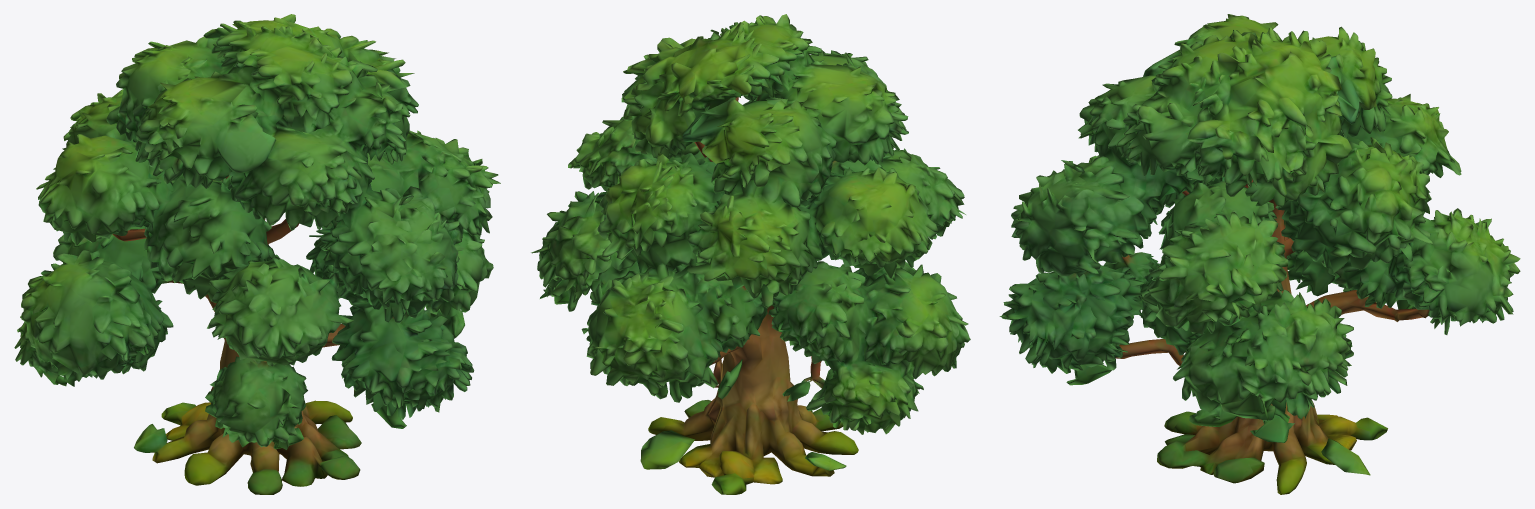
The model's file is prop_tree_a.glb.
3 views of the same model, side by side, from view 1: azimuth 30°, elevation 25°; view 2: azimuth 150°, elevation 25°; view 3: azimuth 270°, elevation 25° (orthographic). The views are drawn at different scales.
Visible parts, largest first — view 1: tripo_node_9dce3909-a59d-47c7-8edc-71247e0c5298; view 2: tripo_node_9dce3909-a59d-47c7-8edc-71247e0c5298; view 3: tripo_node_9dce3909-a59d-47c7-8edc-71247e0c5298.
Boxes of the visible parts, <box> form: tripo_node_9dce3909-a59d-47c7-8edc-71247e0c5298: <box>14,14,500,494</box>; tripo_node_9dce3909-a59d-47c7-8edc-71247e0c5298: <box>531,14,970,494</box>; tripo_node_9dce3909-a59d-47c7-8edc-71247e0c5298: <box>999,14,1520,494</box>.
Size of the model in its own units: 0.9648 by 0.8871 by 0.9992.
Materials: 1 (1 with a texture image).
